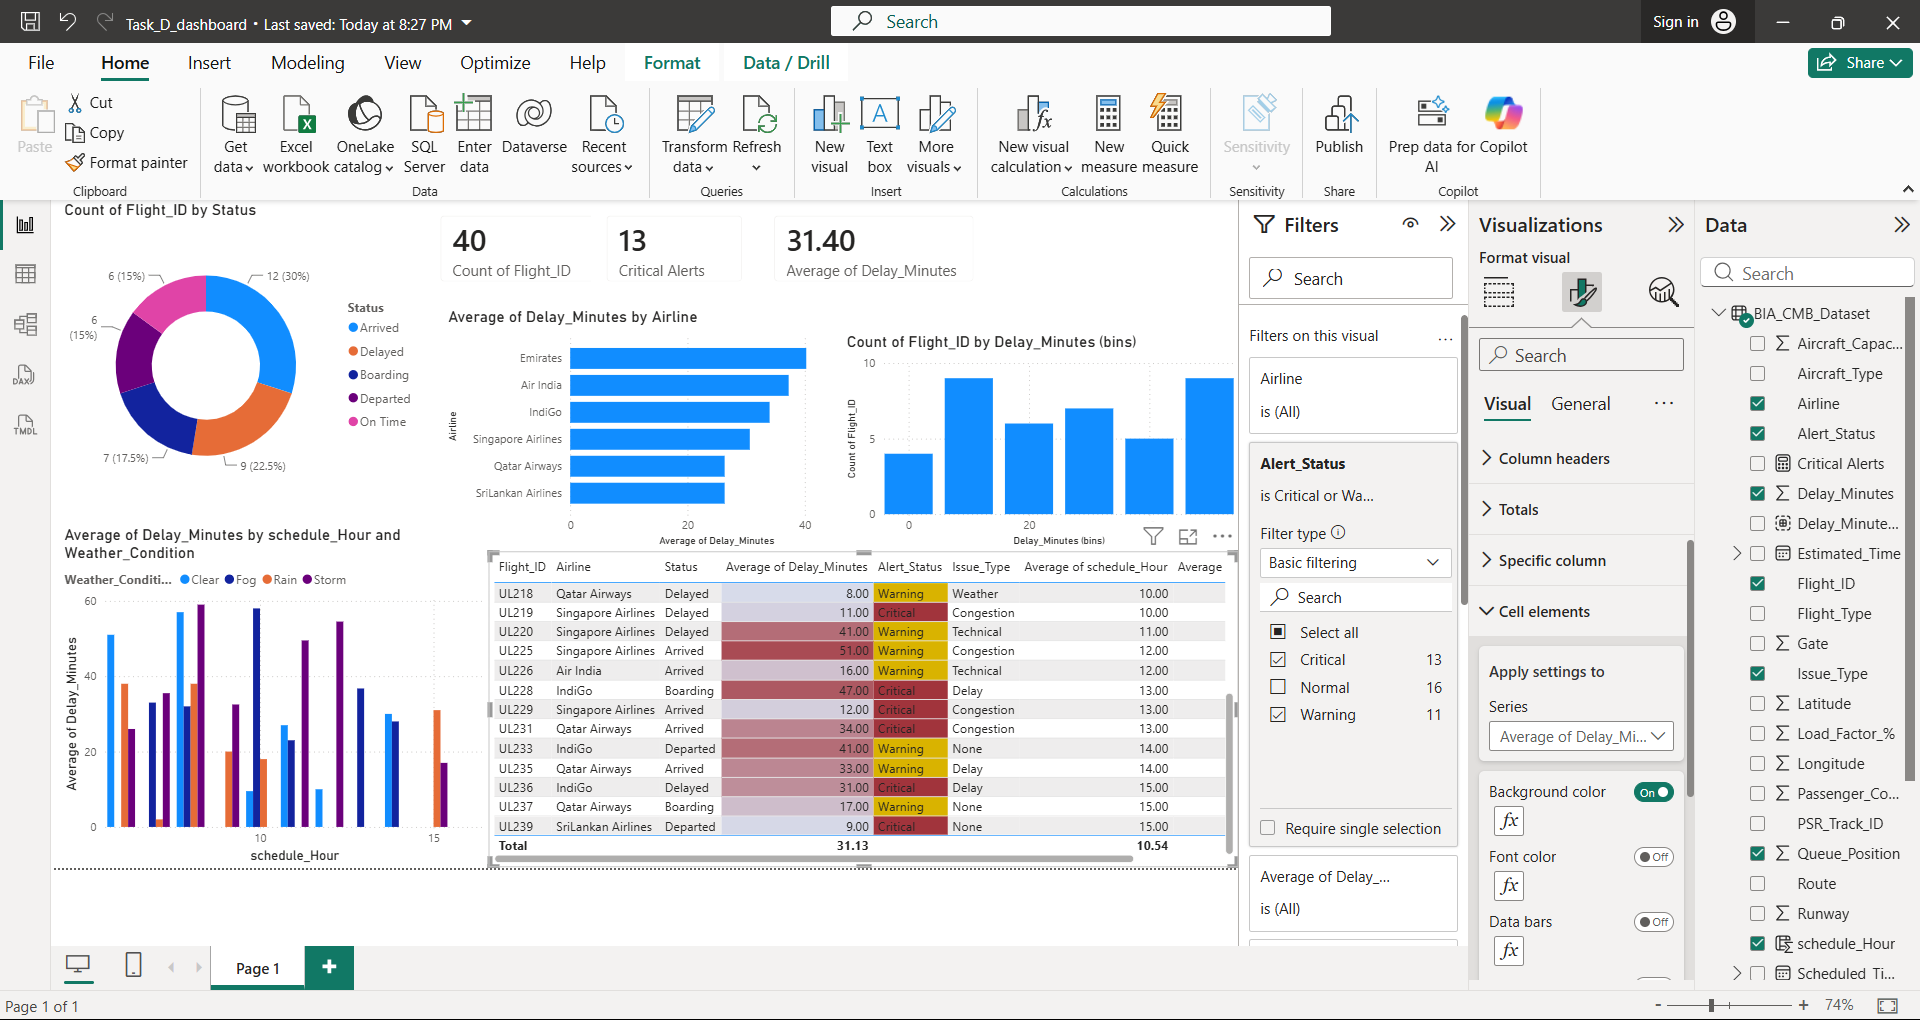

This screenshot's page, from the dashboard's own definition file:
{"tool":"powerbi","page":{"name":"Page 1","canvas":[1280,720],"ordinal":0},"visuals":[{"type":"donutChart","fields":{"Category":["BIA_CMB_Dataset.Status"],"Y":["CountNonNull(BIA_CMB_Dataset.Flight_ID)"]},"box":[9.4,0,393.5,338.3],"z":0},{"type":"cardVisual","fields":{"Data":["CountNonNull(BIA_CMB_Dataset.Flight_ID)"]},"box":[1125.3,275.9,154.9,104.7],"z":1000},{"type":"cardVisual","fields":{"Data":["Avg(BIA_CMB_Dataset.Delay_Minutes)"]},"box":[772,255.5,203.9,104.7],"z":2000},{"type":"cardVisual","fields":{"Data":["BIA_CMB_Dataset.Critical Alerts"]},"box":[967.7,278.6,157.7,100.6],"z":3000},{"type":"clusteredBarChart","fields":{"Category":["BIA_CMB_Dataset.Airline"],"Y":["Avg(BIA_CMB_Dataset.Delay_Minutes)"]},"box":[422.7,115.5,369.7,263.7],"z":4000},{"type":"columnChart","fields":{"Category":["BIA_CMB_Dataset.Delay_Minutes (bins)"],"Y":["CountNonNull(BIA_CMB_Dataset.Flight_ID)"]},"box":[732.6,0,281.3,221.5],"z":5000},{"type":"clusteredColumnChart","fields":{"Category":["BIA_CMB_Dataset.schedule_Hour"],"Y":["Avg(BIA_CMB_Dataset.Delay_Minutes)"],"Series":["BIA_CMB_Dataset.Weather_Condition"]},"box":[9.4,350.4,462.2,369.3],"z":6000},{"type":"tableEx","fields":{"Values":["BIA_CMB_Dataset.Flight_ID","BIA_CMB_Dataset.Airline","BIA_CMB_Dataset.Status","Avg(BIA_CMB_Dataset.Delay_Minutes)","BIA_CMB_Dataset.Alert_Status","BIA_CMB_Dataset.Issue_Type","Avg(BIA_CMB_Dataset.schedule_Hour)","Avg(BIA_CMB_Dataset.Queue_Position)"]},"box":[471.7,378.7,808.6,341],"z":7000},{"type":"clusteredBarChart","fields":{"Category":["BIA_CMB_Dataset.Destination_Country"],"Y":["CountNonNull(BIA_CMB_Dataset.Flight_ID)"]},"box":[996.2,0,284.1,278.6],"z":8000},{"type":"textbox","box":[422.7,0,154.9,91.1],"z":9000},{"type":"advancedSlicerVisual","fields":{"Values":["BIA_CMB_Dataset.Alert_Status"]},"box":[577.6,1.4,159,89.7],"z":10000}]}

Visuals, with their boxes on the page's 1280x720 design canvas (x1, y1, x2, y2). These are canvas units, not pixel positions in the 1920x1020 screenshot, which may show the page scaled, cropped or inside an application window:
donutChart - BIA_CMB_Dataset.Status x CountNonNull(BIA_CMB_Dataset.Flight_ID): 9/0/403/338
cardVisual - CountNonNull(BIA_CMB_Dataset.Flight_ID): 1125/276/1280/381
cardVisual - Avg(BIA_CMB_Dataset.Delay_Minutes): 772/256/976/360
cardVisual - BIA_CMB_Dataset.Critical Alerts: 968/279/1125/379
clusteredBarChart - BIA_CMB_Dataset.Airline x Avg(BIA_CMB_Dataset.Delay_Minutes): 423/116/792/379
columnChart - BIA_CMB_Dataset.Delay_Minutes (bins) x CountNonNull(BIA_CMB_Dataset.Flight_ID): 733/0/1014/222
clusteredColumnChart - BIA_CMB_Dataset.schedule_Hour x Avg(BIA_CMB_Dataset.Delay_Minutes): 9/350/472/720
tableEx - BIA_CMB_Dataset.Flight_ID x BIA_CMB_Dataset.Airline: 472/379/1280/720
clusteredBarChart - BIA_CMB_Dataset.Destination_Country x CountNonNull(BIA_CMB_Dataset.Flight_ID): 996/0/1280/279
textbox: 423/0/578/91
advancedSlicerVisual - BIA_CMB_Dataset.Alert_Status: 578/1/737/91
